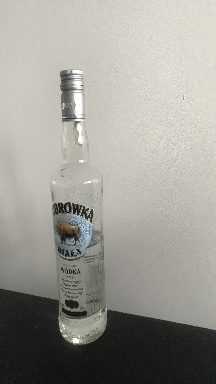butelka: (48, 65, 108, 347)
